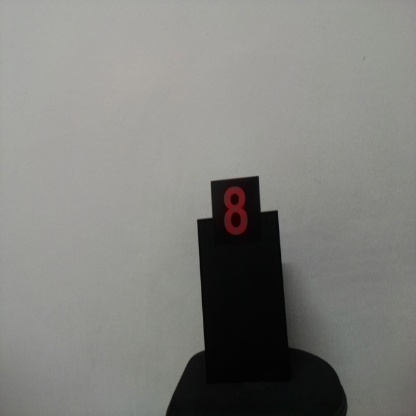id_8: (211, 181, 260, 247)
